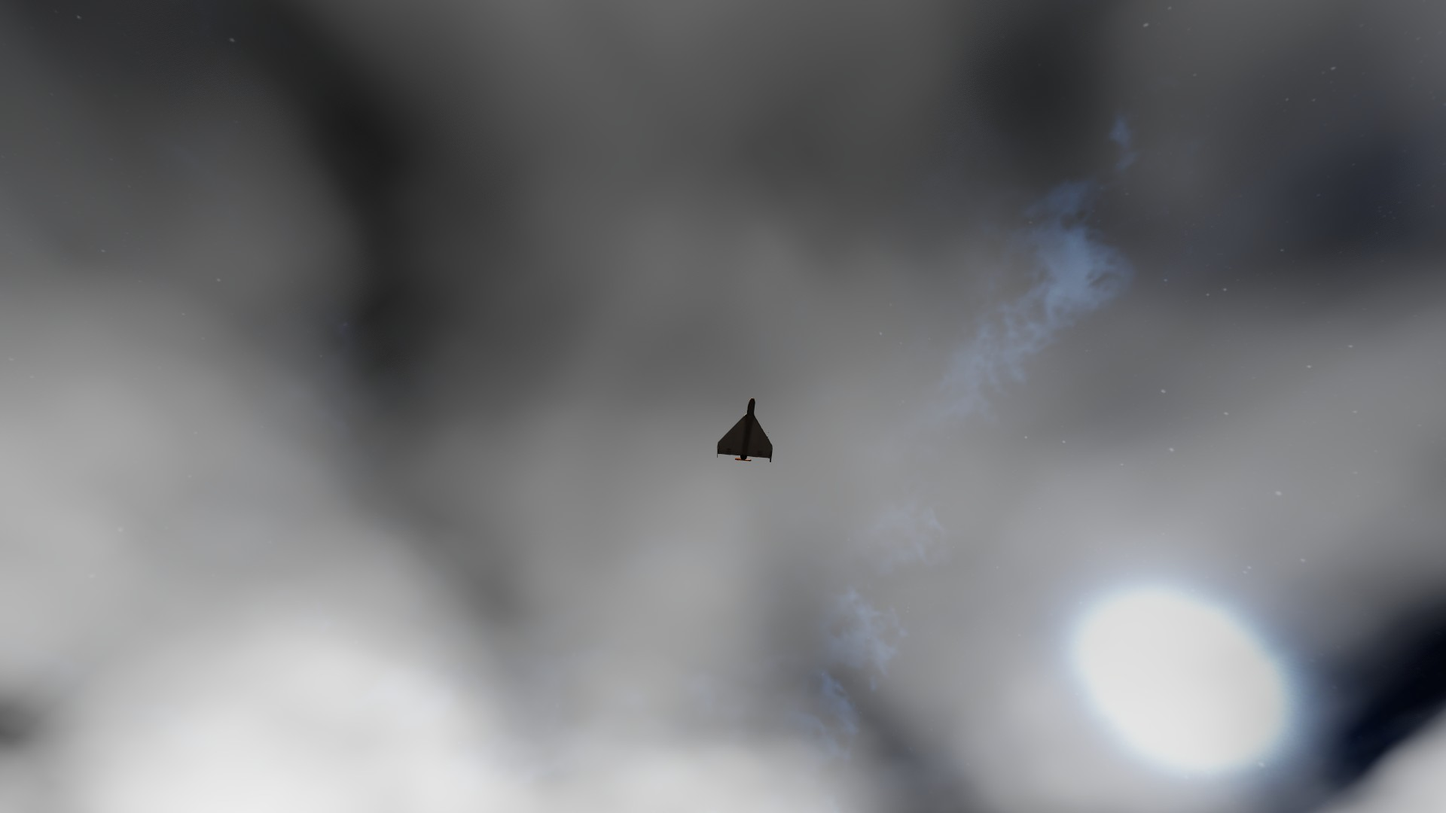shahed: (717, 397, 773, 464)
